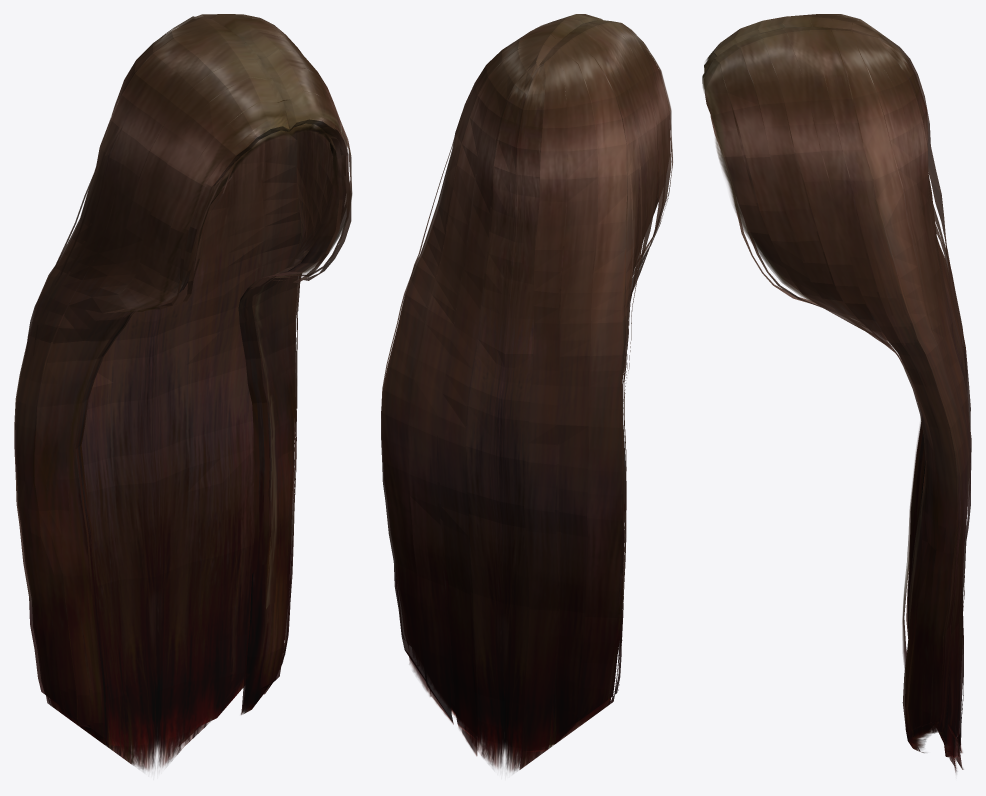
Rendered from v-cut-cc0.glb.
3 renders of one model, left to right at view 1: azimuth 30°, elevation 25°; view 2: azimuth 150°, elevation 25°; view 3: azimuth 270°, elevation 25°, orthographic. The views are drawn at different scales.
Visible parts, largest first — view 1: Node; view 2: Node; view 3: Node.
Boxes of the visible parts, x1,y1,x2,y2 form: Node: [14, 14, 352, 771]; Node: [381, 14, 672, 772]; Node: [702, 14, 971, 773].
Bounding box in the file's own units: 2.54 × 7.01 × 2.26.
Materials: 1 (1 with a texture image).
